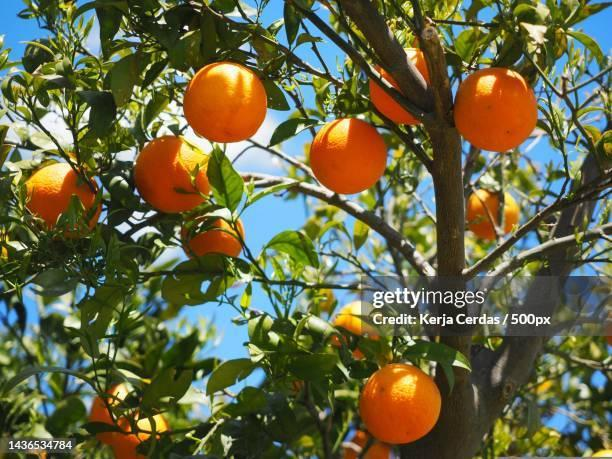orange: (453, 57, 541, 162), (181, 49, 274, 147), (357, 360, 443, 453), (303, 115, 393, 203), (126, 134, 218, 218)
